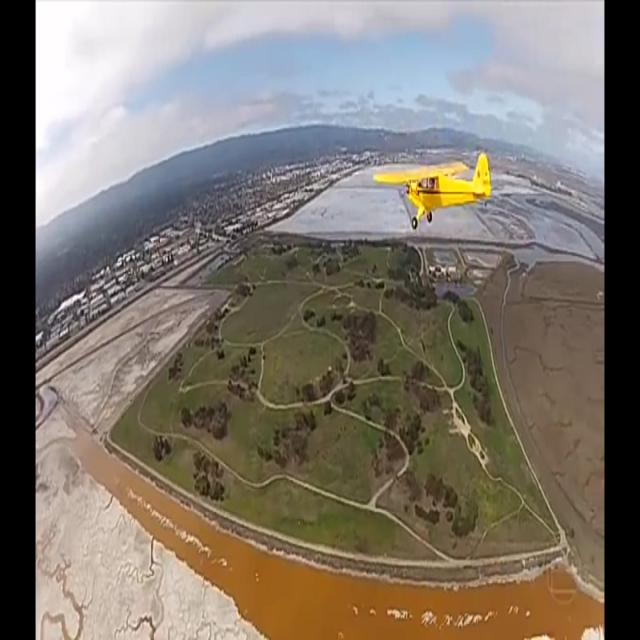iha: (405, 180, 460, 200)
